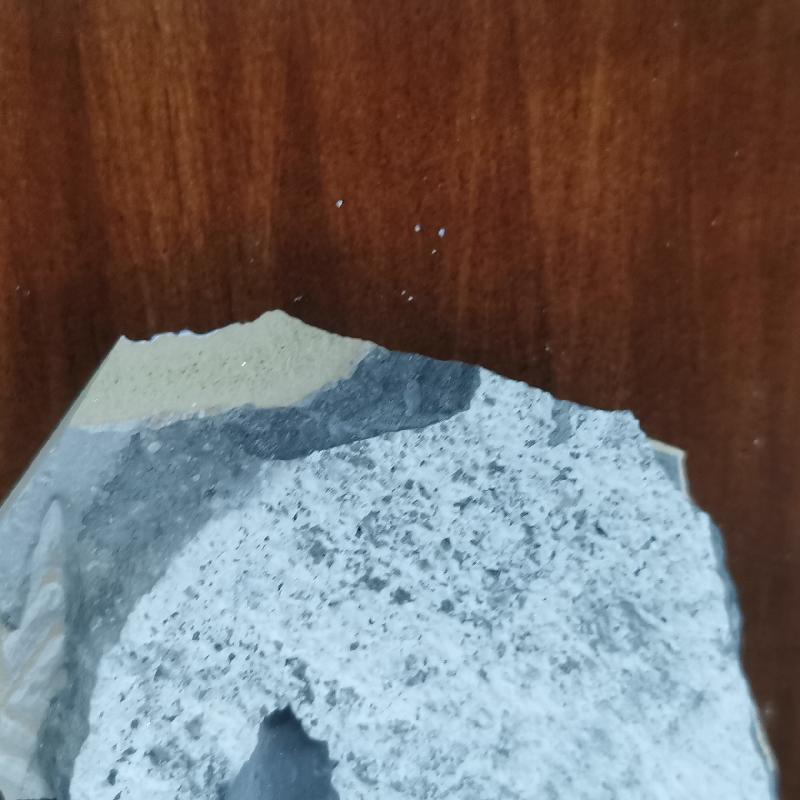tile: (4, 309, 795, 800)
